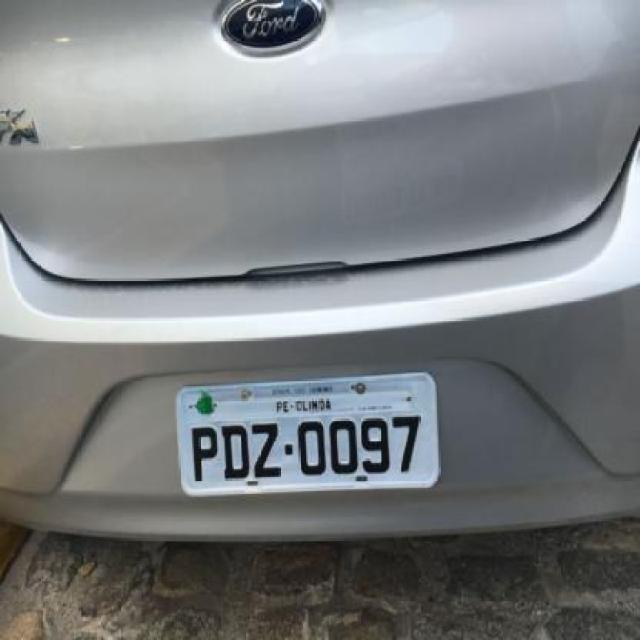old_plate: (172, 363, 445, 502)
